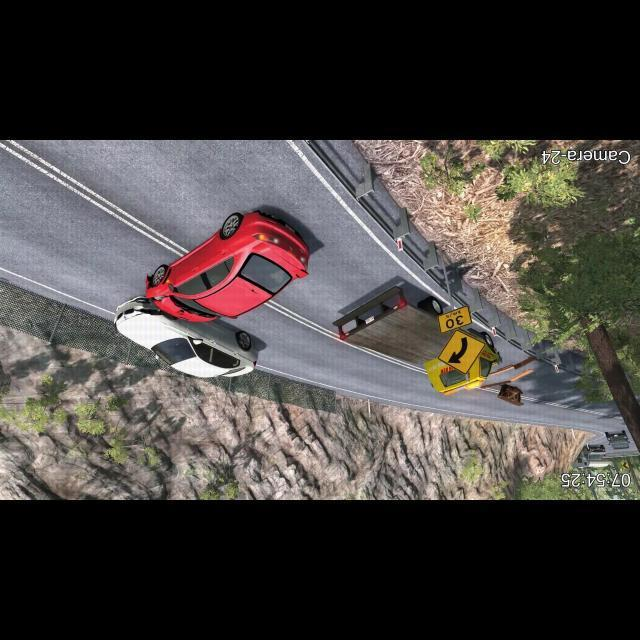moderate: (110, 210, 312, 382)
